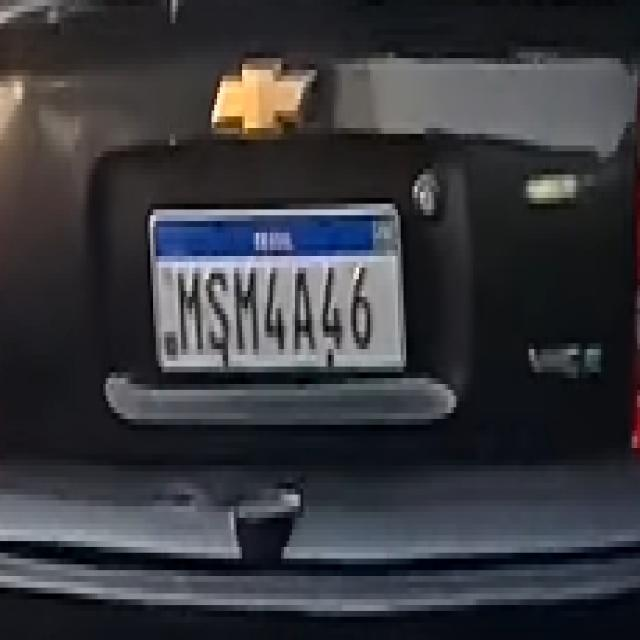Placa_mercosul_carro: (147, 199, 409, 375)
